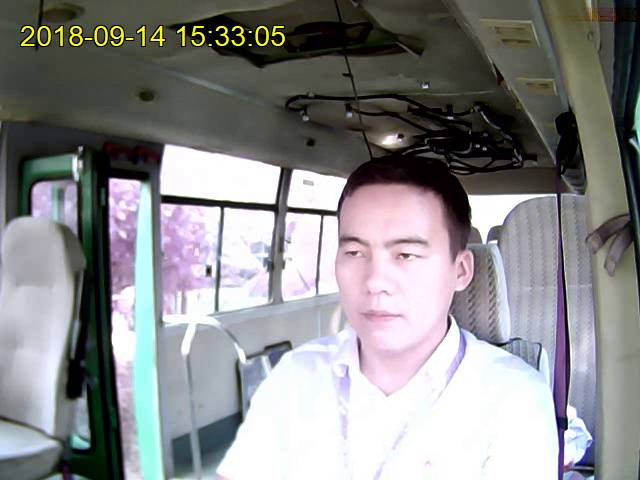closed_mouth: (357, 306, 405, 326)
open_eye: (391, 250, 428, 265), (338, 247, 362, 260)
